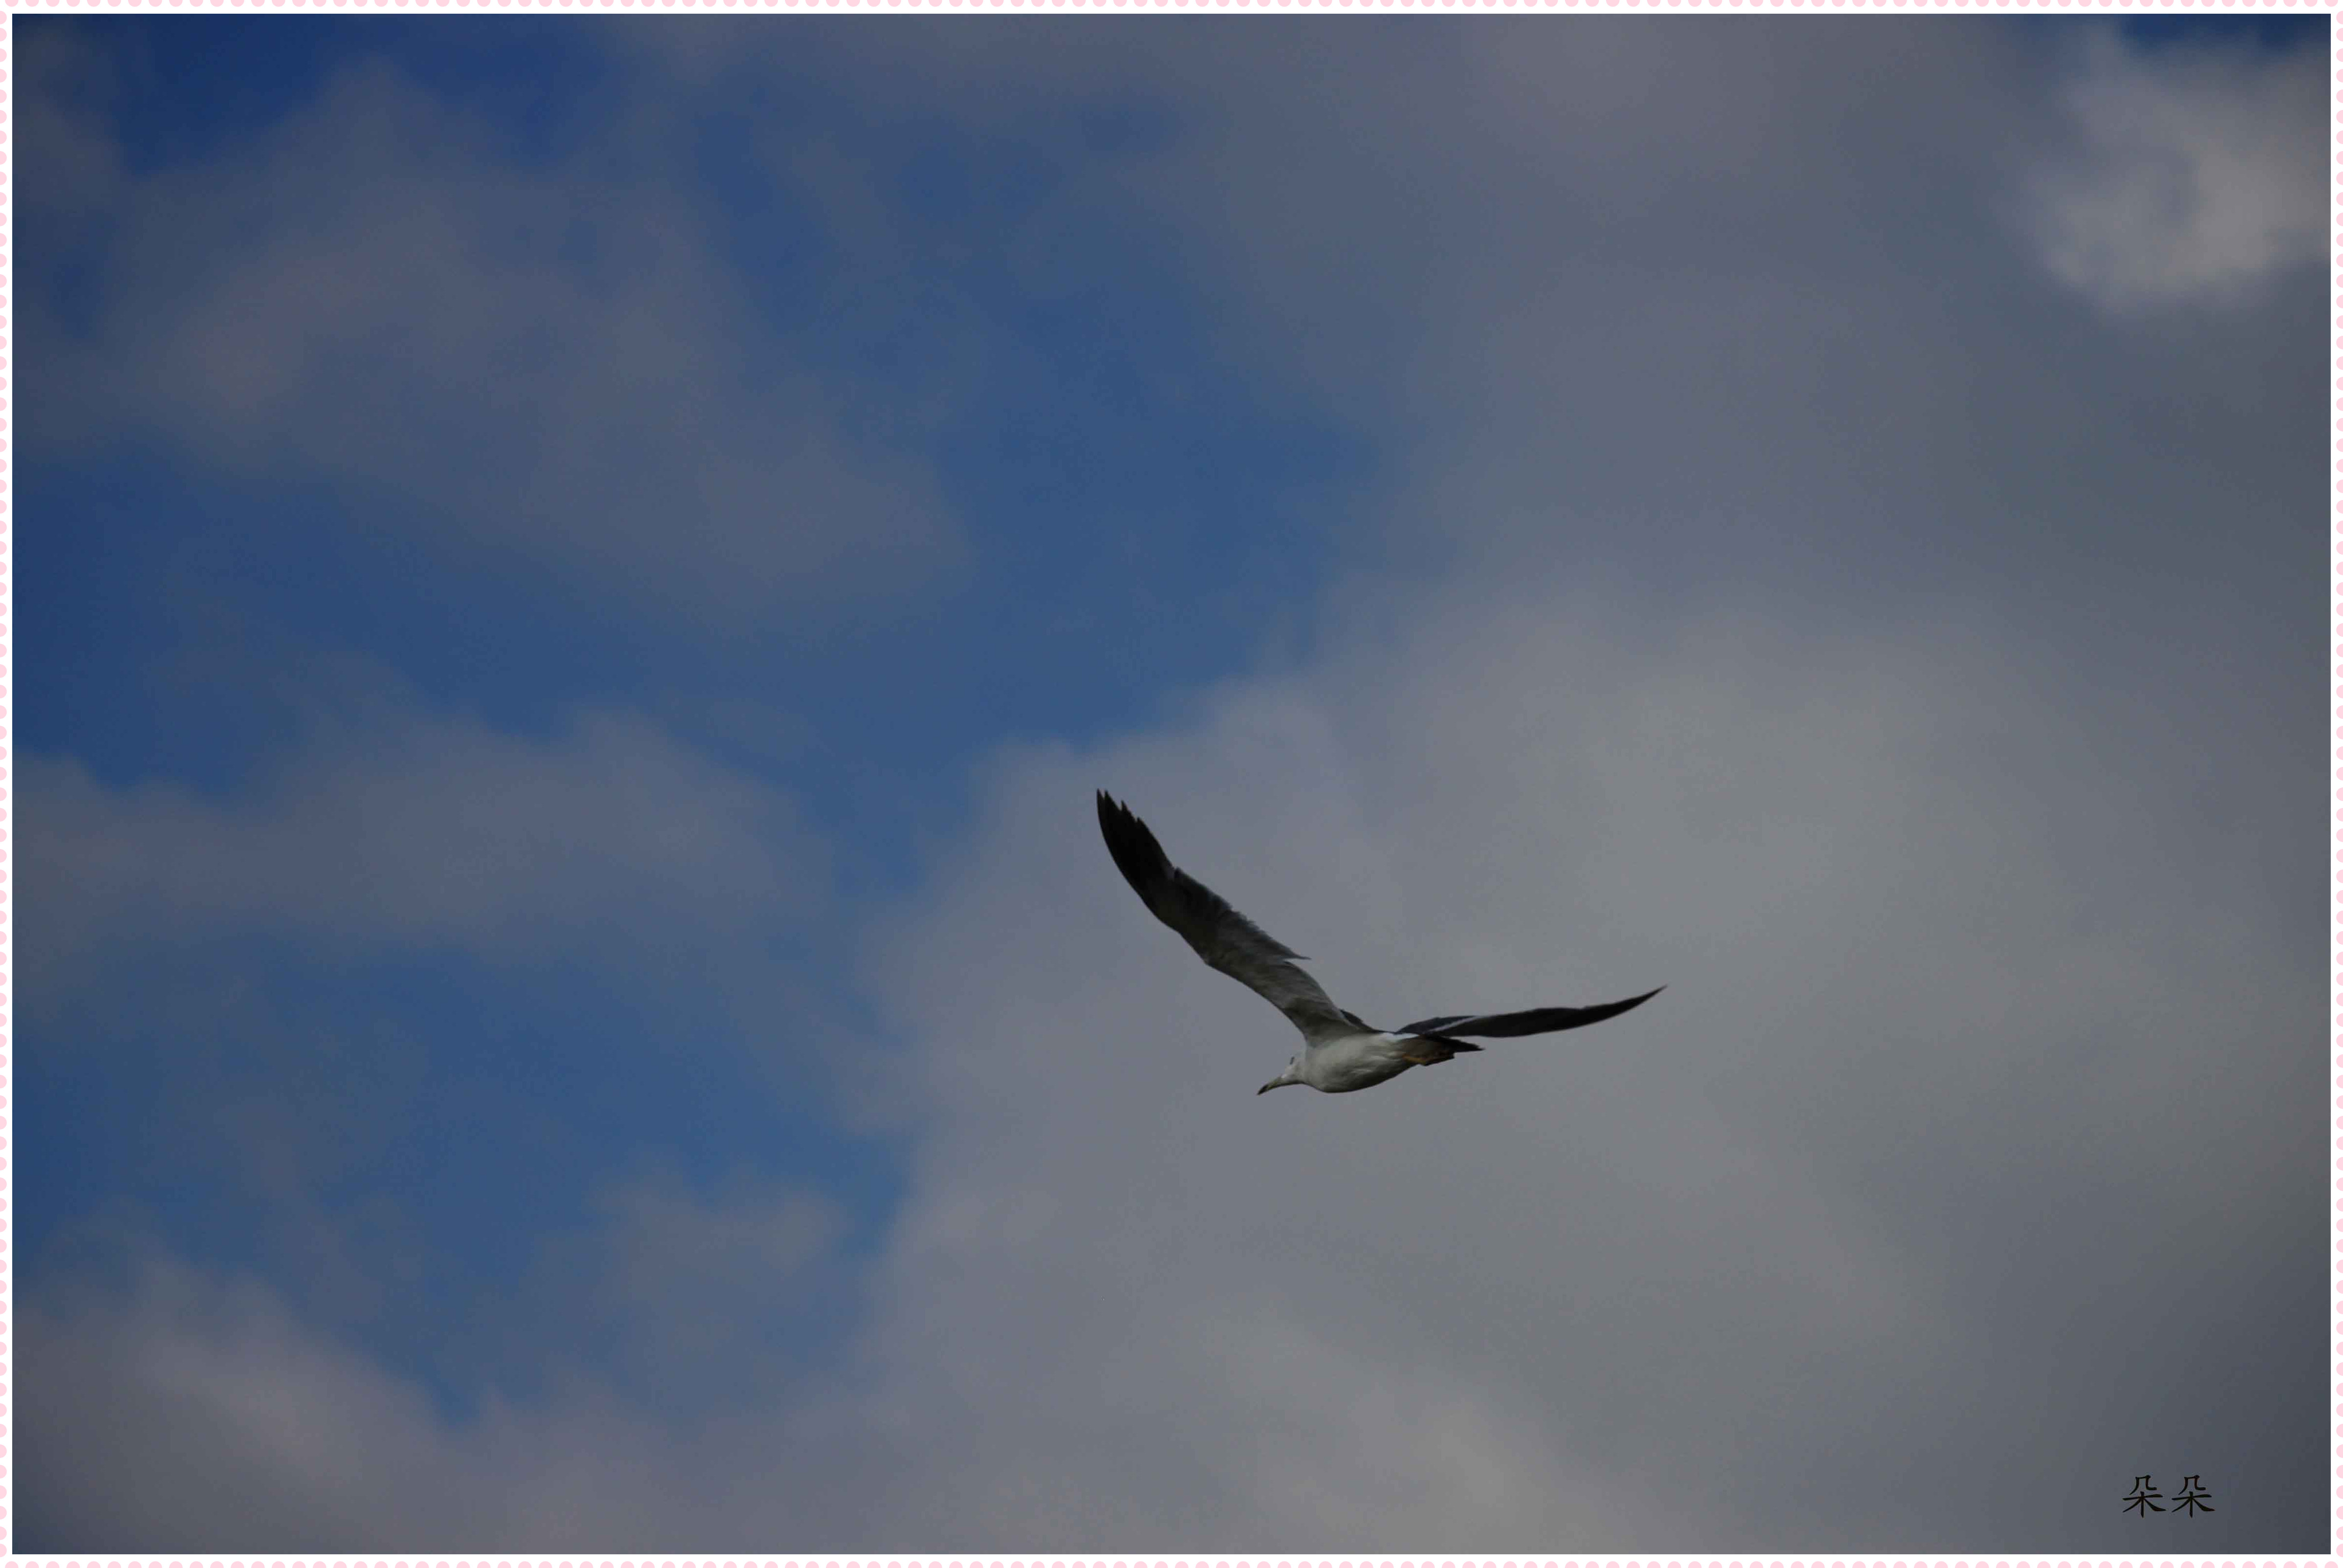bird: (1060, 775, 1687, 1102)
